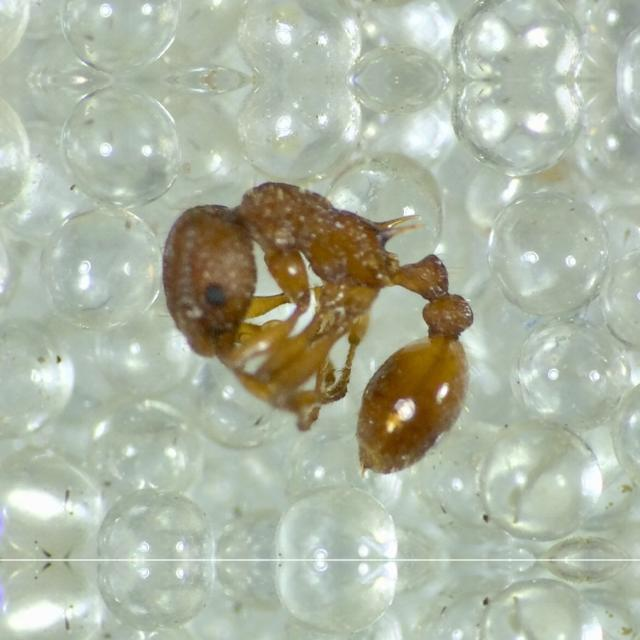Myrmica: (170, 141, 508, 465)
